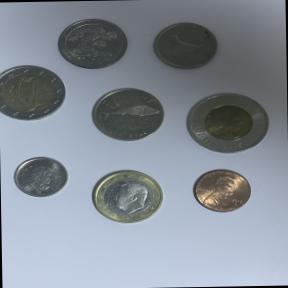1 Euro-B: (86, 164, 173, 228)
2 Euro-B: (0, 62, 66, 123)
Canada-10cent-B: (10, 151, 74, 202)
Canada-2Dollar-B: (179, 83, 277, 161)
Croatia-2Kune-B: (88, 82, 170, 148)
US-1cent-B: (187, 164, 258, 218)
US-25cent-B: (54, 14, 132, 71)
